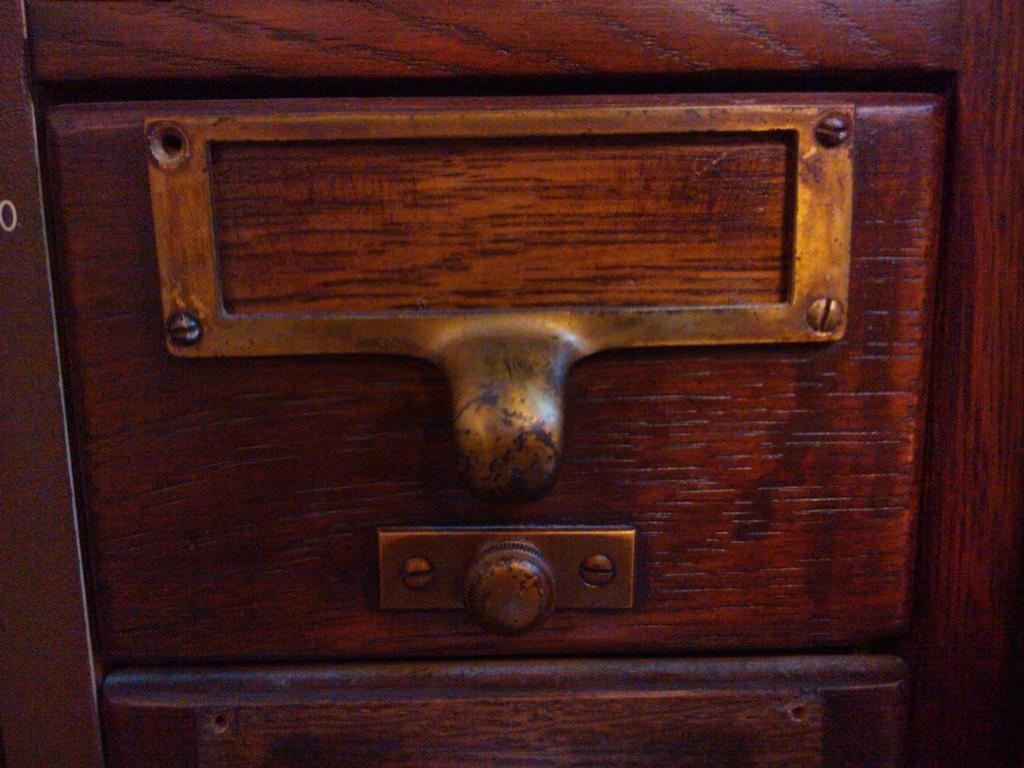cabinet_door: (60, 119, 921, 644)
handle: (456, 542, 562, 648)
